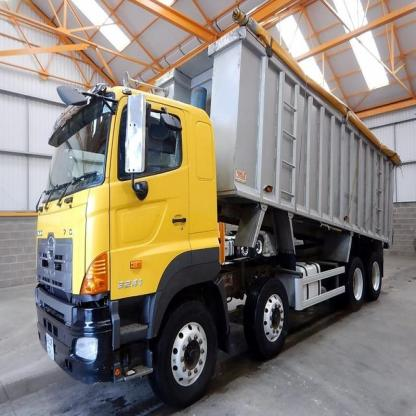dump_truck: (29, 18, 404, 410)
